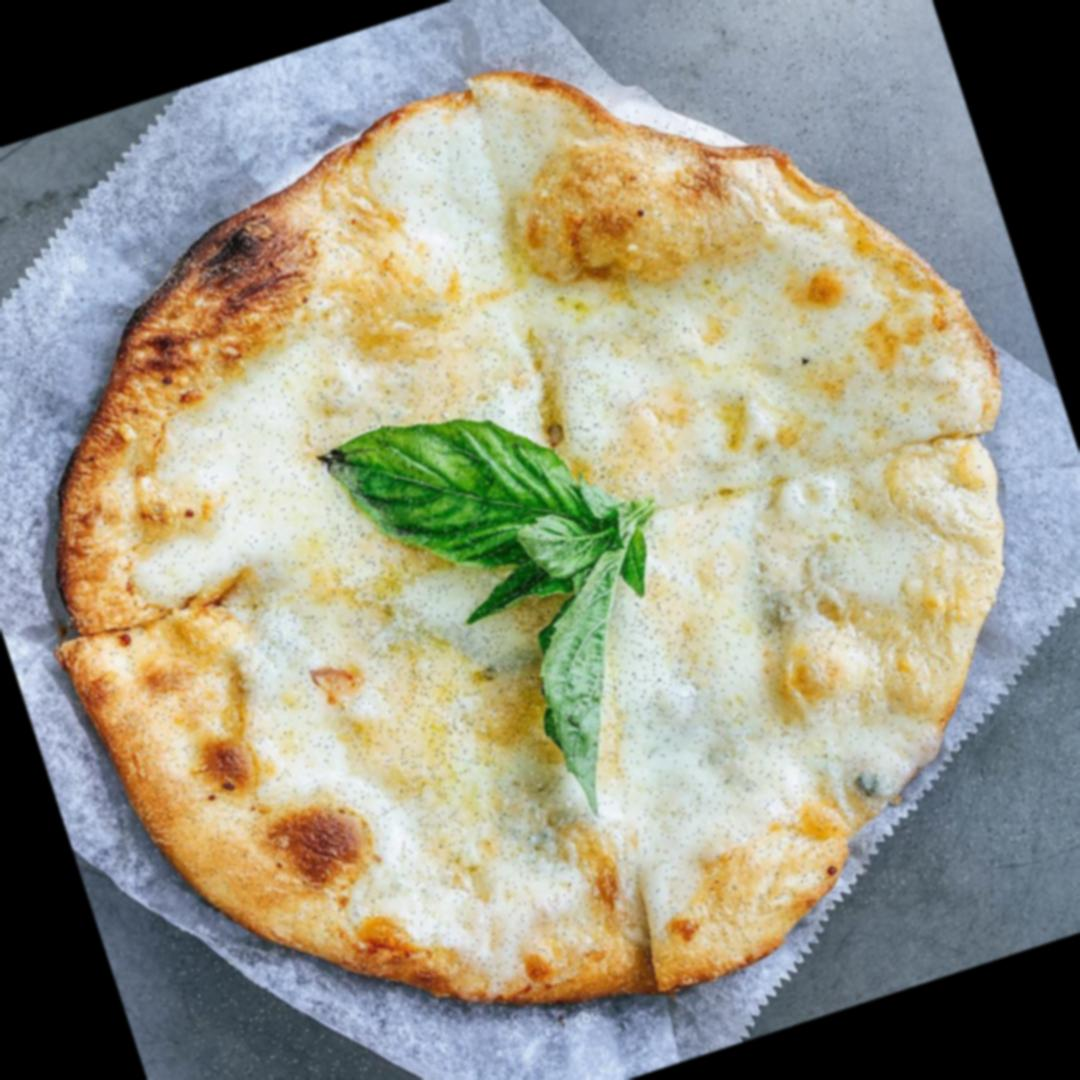Basil: (296, 345, 712, 791)
Pizza: (0, 0, 1080, 1080)
